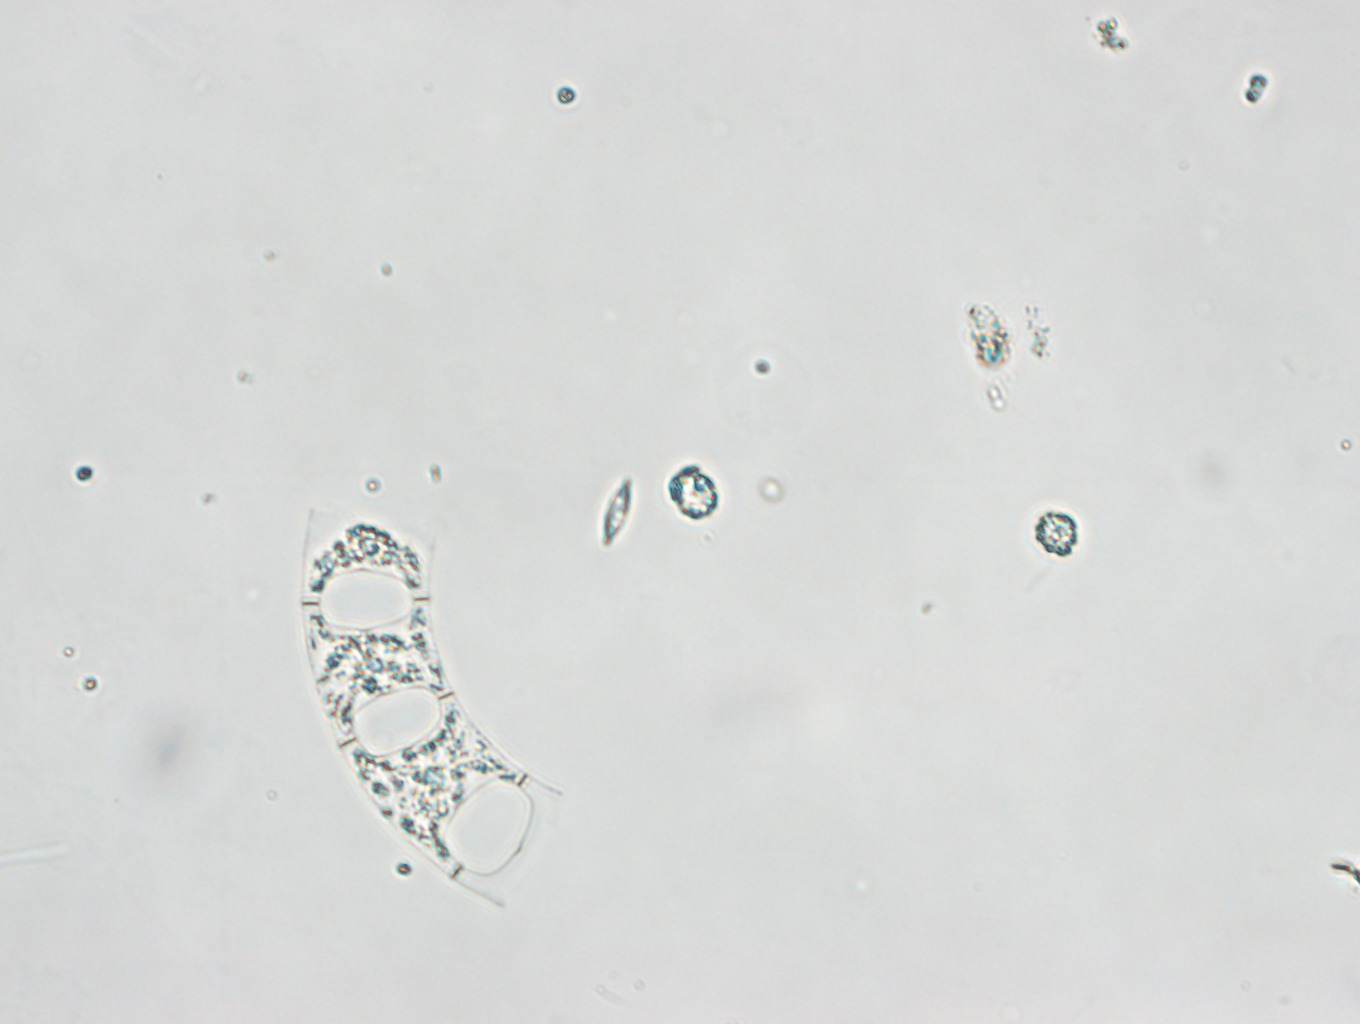eucampia: (289, 501, 568, 904)
